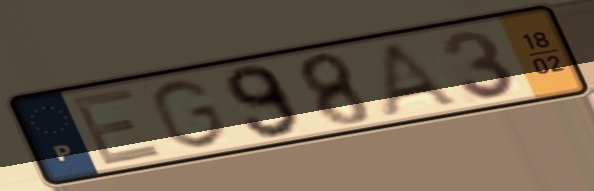3: (439, 26, 520, 102)
8: (295, 50, 375, 128)
9: (218, 60, 305, 141)
A: (376, 38, 466, 117)
E: (66, 85, 168, 169)
G: (146, 77, 231, 151)
